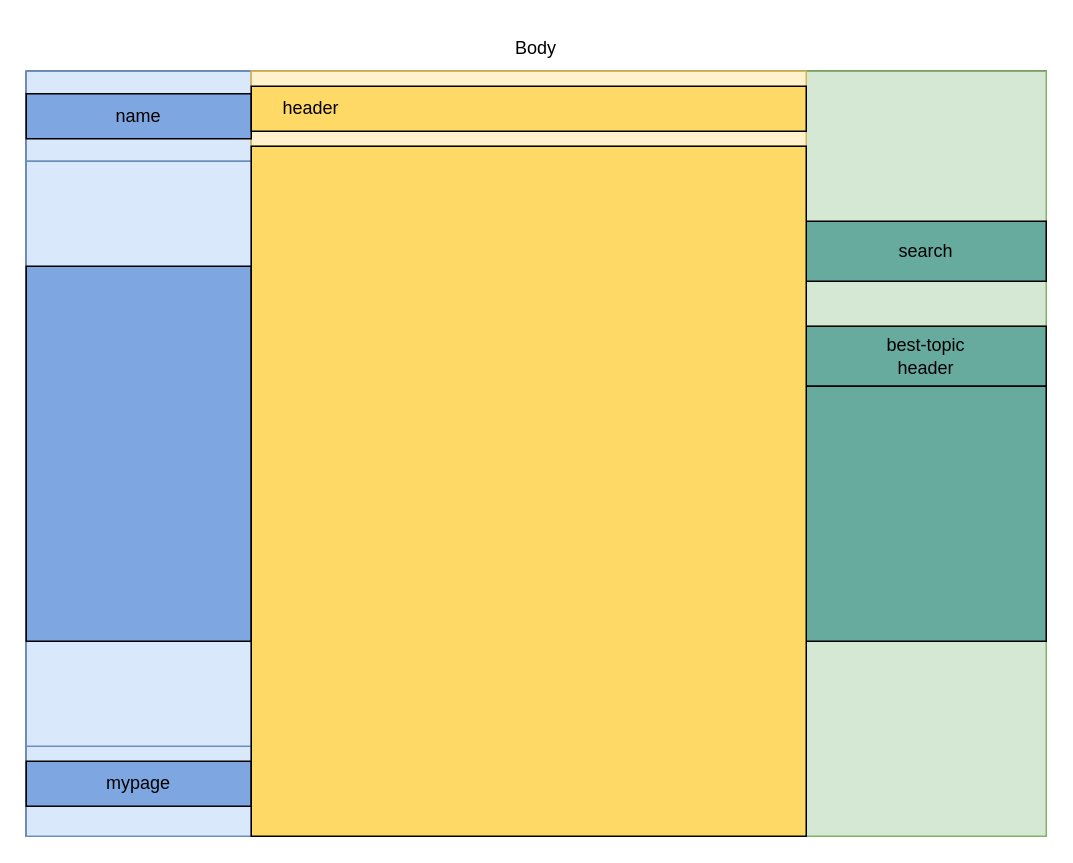
This 1073x863 diagram has some shape labels left out. Each missing label, with the centre of its shape:
"best-topic content" belongs at (925,513).
"content" belongs at (528,490).
"navi" belongs at (138,453).
